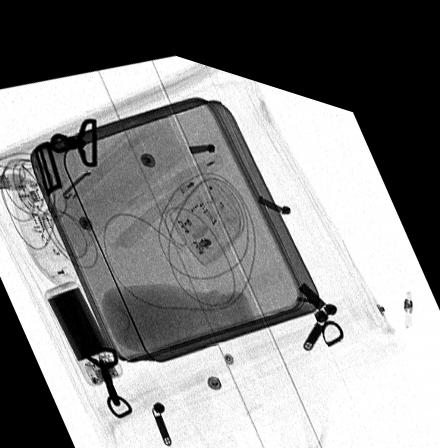Powerbank: (42, 276, 122, 381)
